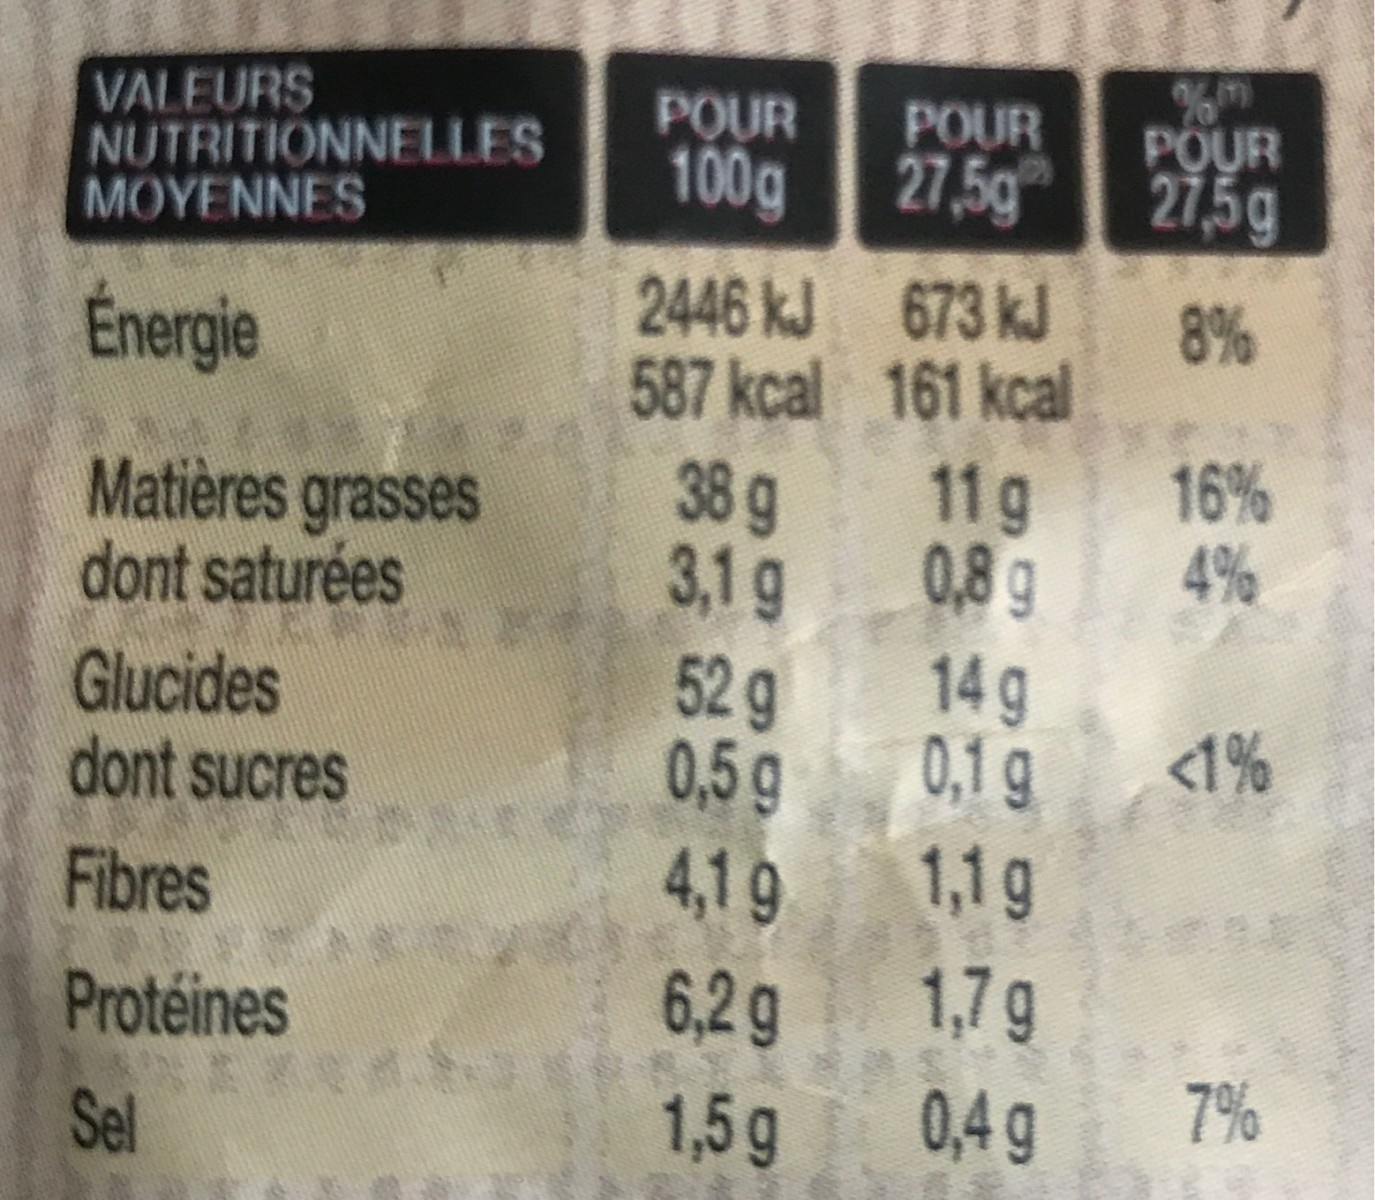table: (57, 54, 1326, 1177)
